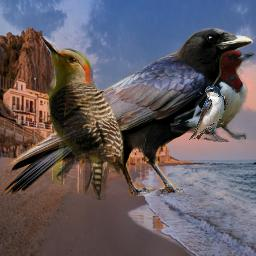Crow: (1, 25, 253, 196)
Swallow: (189, 85, 228, 140)
Woodpecker: (40, 36, 124, 200), (170, 50, 256, 142)
